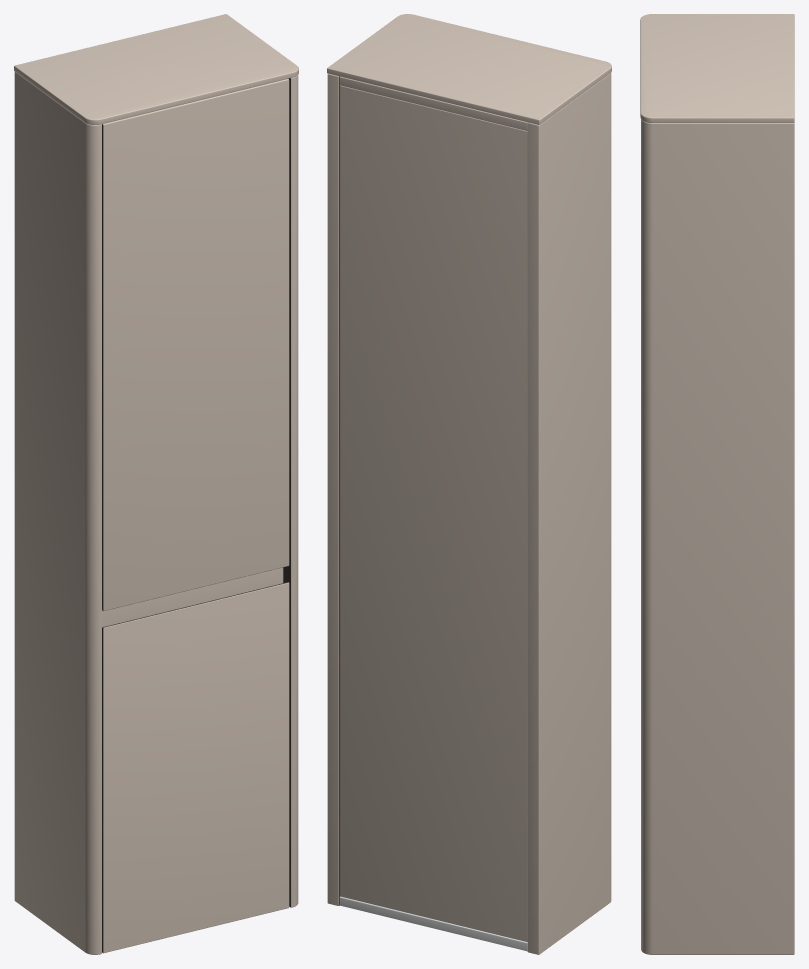
3 renders of one model, left to right at view 1: azimuth 30°, elevation 25°; view 2: azimuth 150°, elevation 25°; view 3: azimuth 270°, elevation 25°, orthographic.
Visible parts, largest first — view 1: ER11; view 2: ER11; view 3: ER11.
Part boxes in pixels (x1,y1,x2,y2): ER11: (14, 14, 298, 954); ER11: (327, 14, 611, 954); ER11: (640, 14, 794, 954).
Size of the model in its own units: 0.4 by 1.5 by 0.25.
